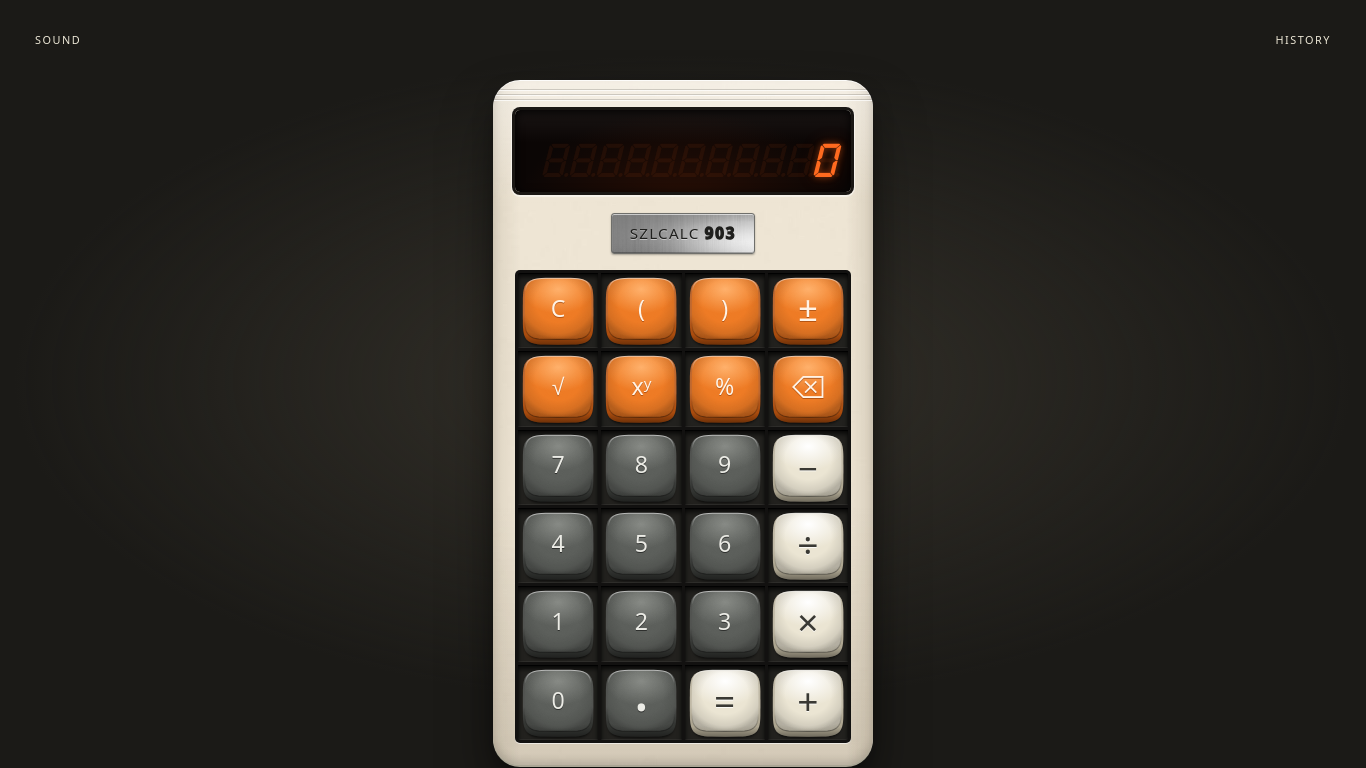
Test: App › shows Err and a toast when the API refuses
Later steps or results of the test are not shown.
Click the button "1": (558, 624) [518,586,598,662]
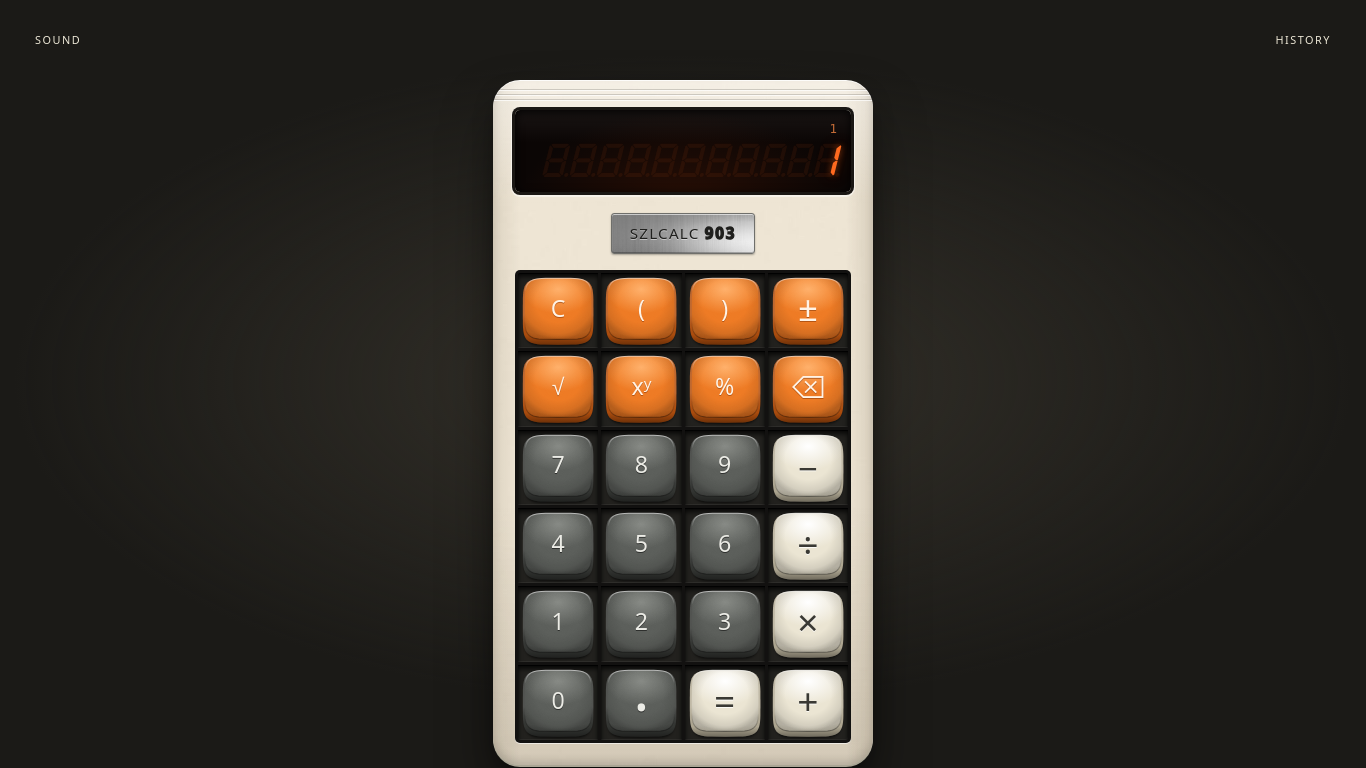
Click the button named "divide": (808, 546) [768,508,848,583]
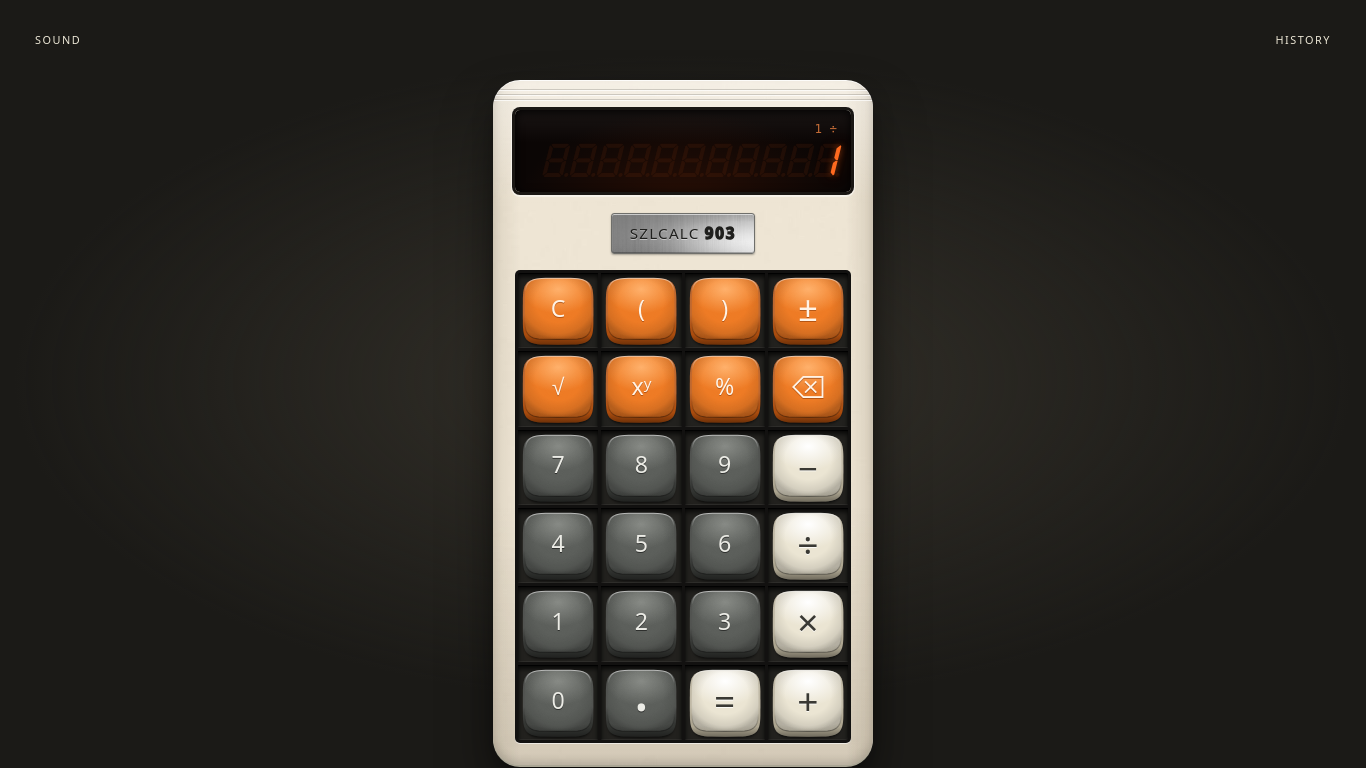
Click the button "0": (558, 703) [518,665,598,740]
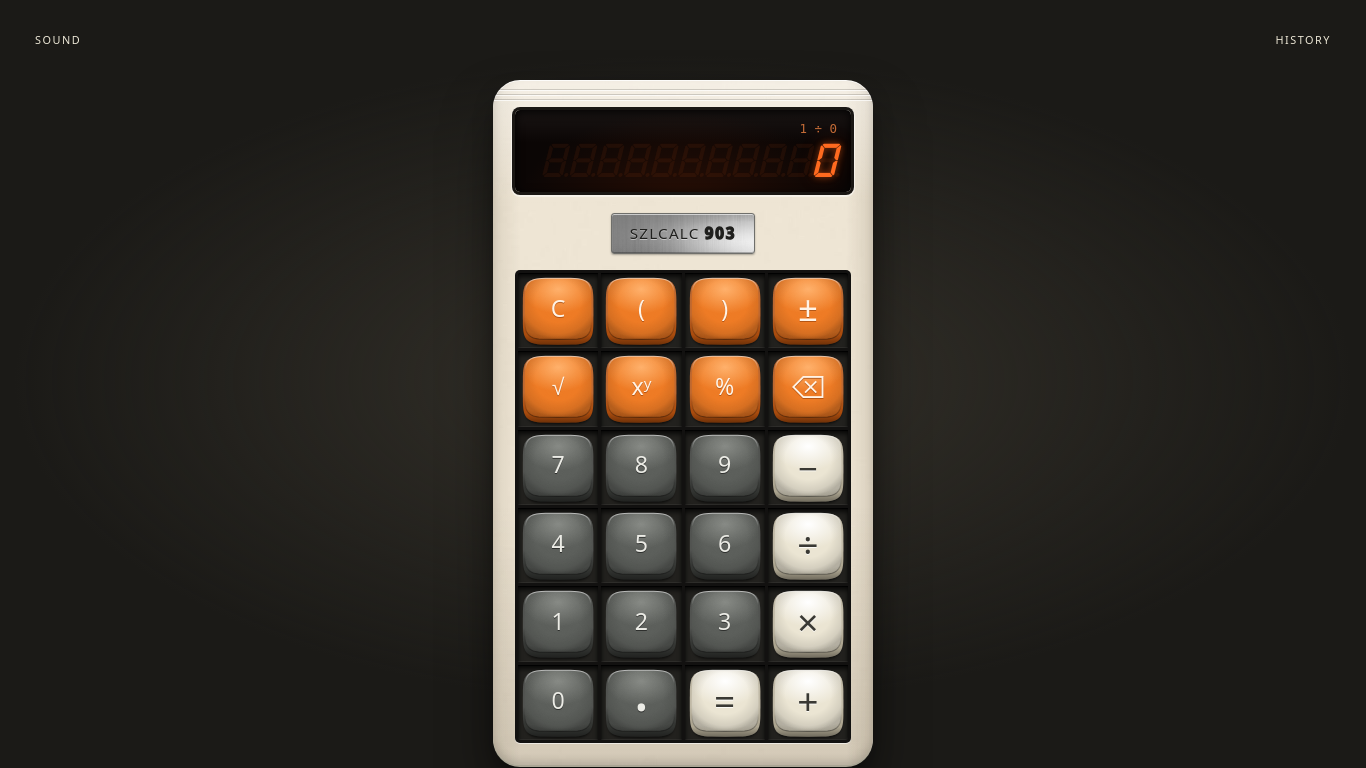
Click the button named "equals": (725, 703) [684,665,765,740]
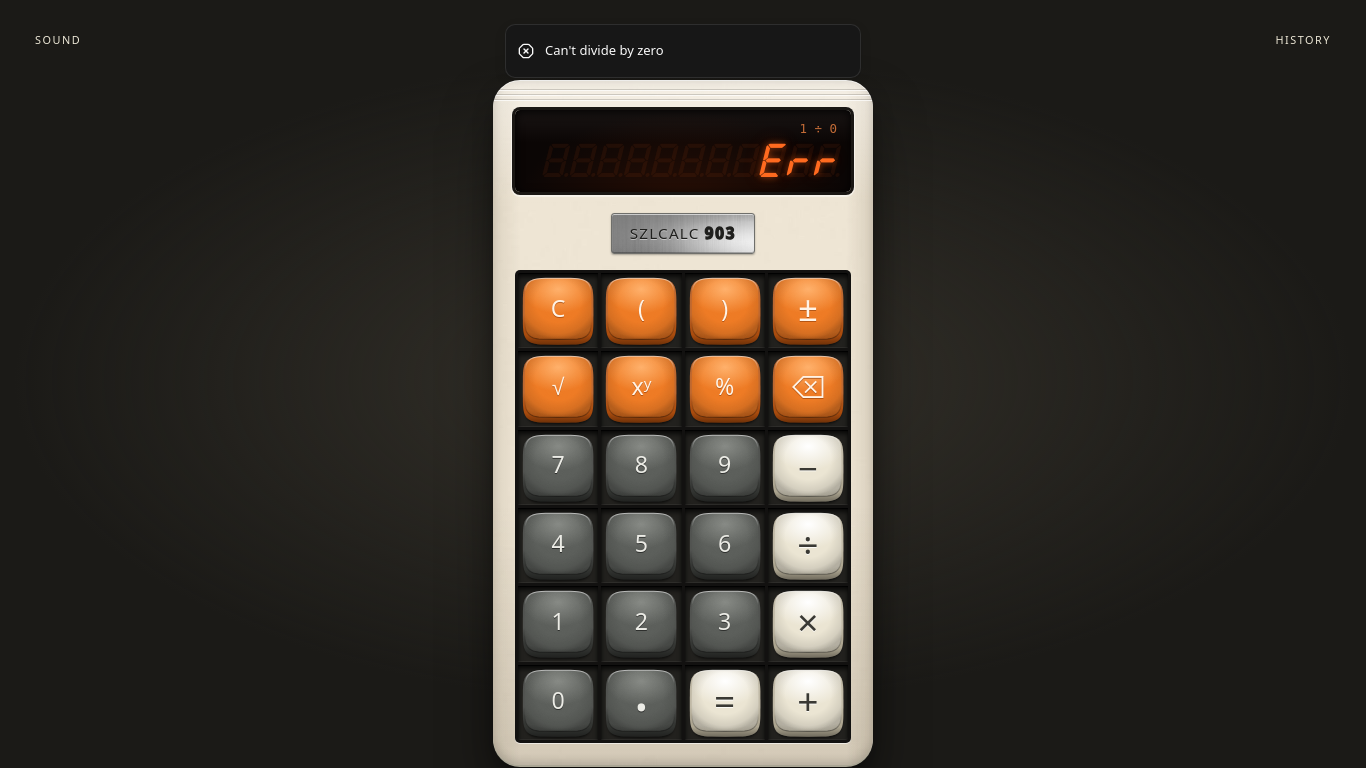
Expected: the text with test id "display-value" reads "Err", [756,144,837,176]
Expected: the text "Can't divide by zero" is shown, [545,41,664,60]
